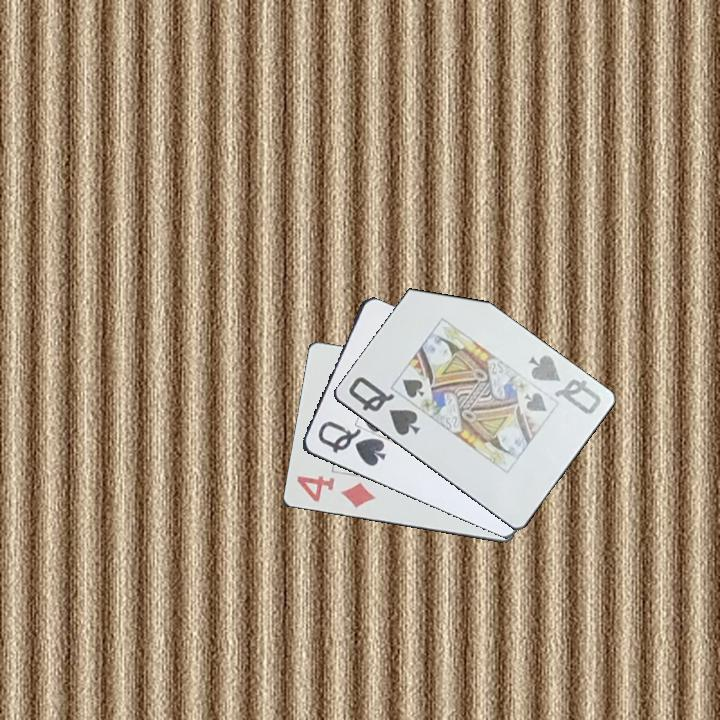4d: (293, 472, 378, 512)
Qs: (524, 351, 604, 418), (344, 373, 423, 439), (314, 417, 389, 469)
